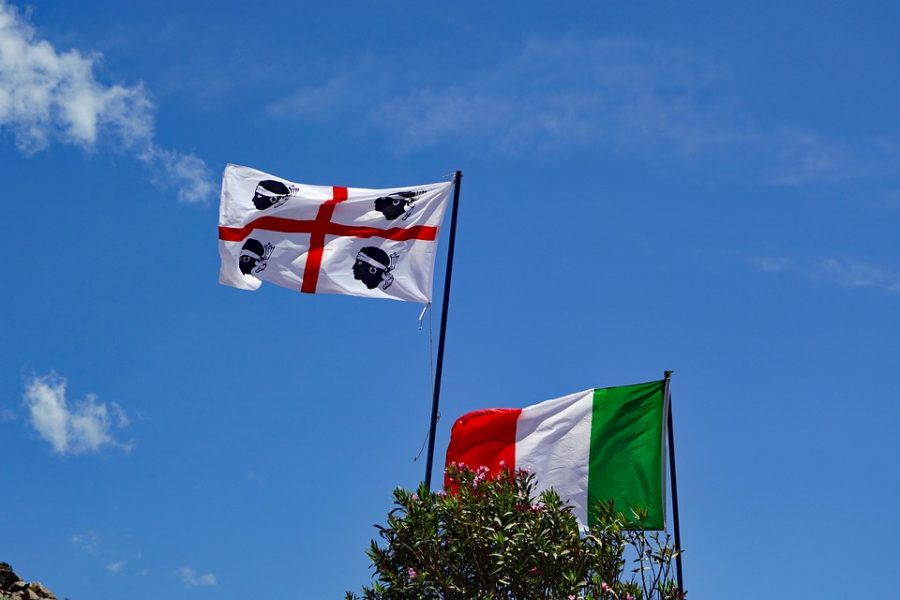Flag: (440, 372, 676, 535), (214, 158, 458, 308)
